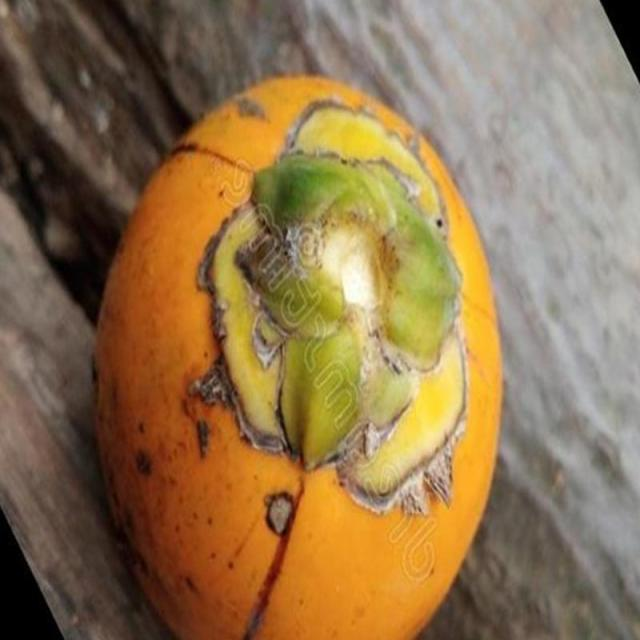good: (90, 77, 506, 639)
